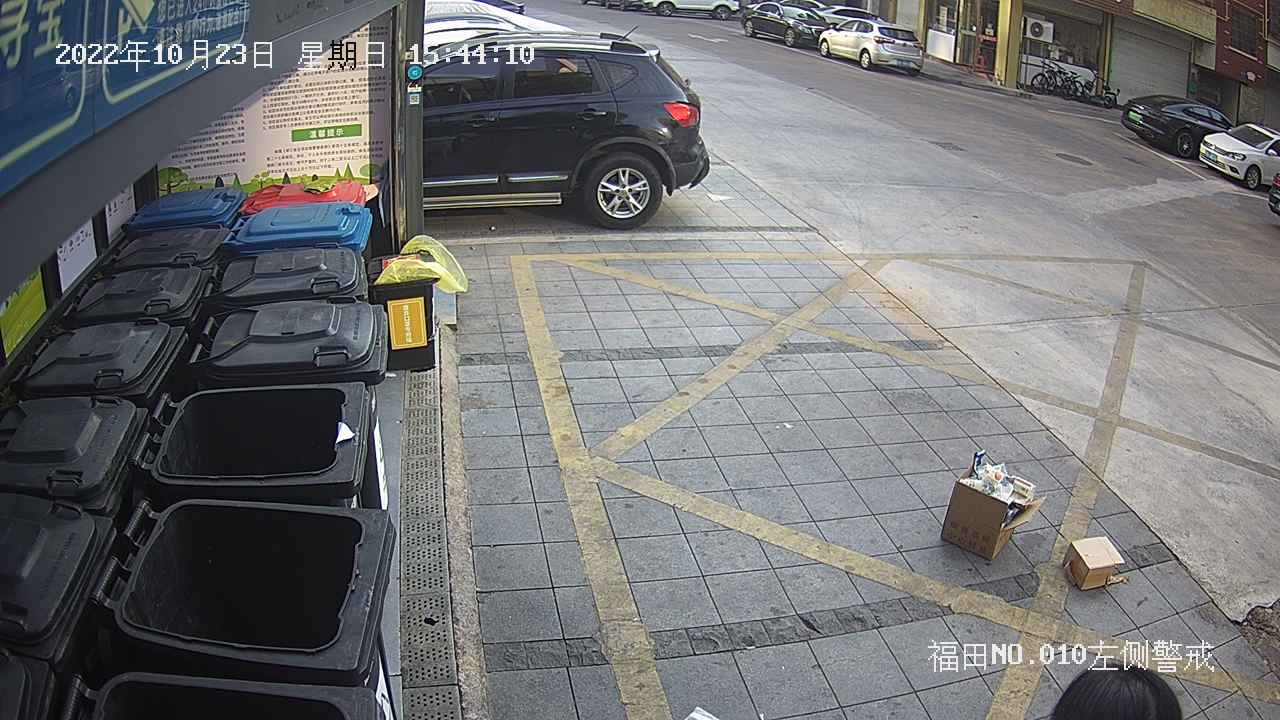zhizhipin: (936, 440, 1050, 567), (1059, 533, 1133, 595)
